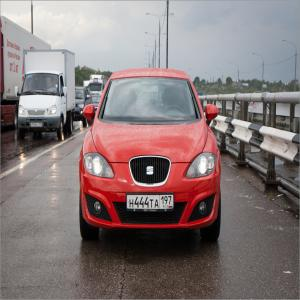Vehicle-registration-plate: (127, 195, 175, 212)
